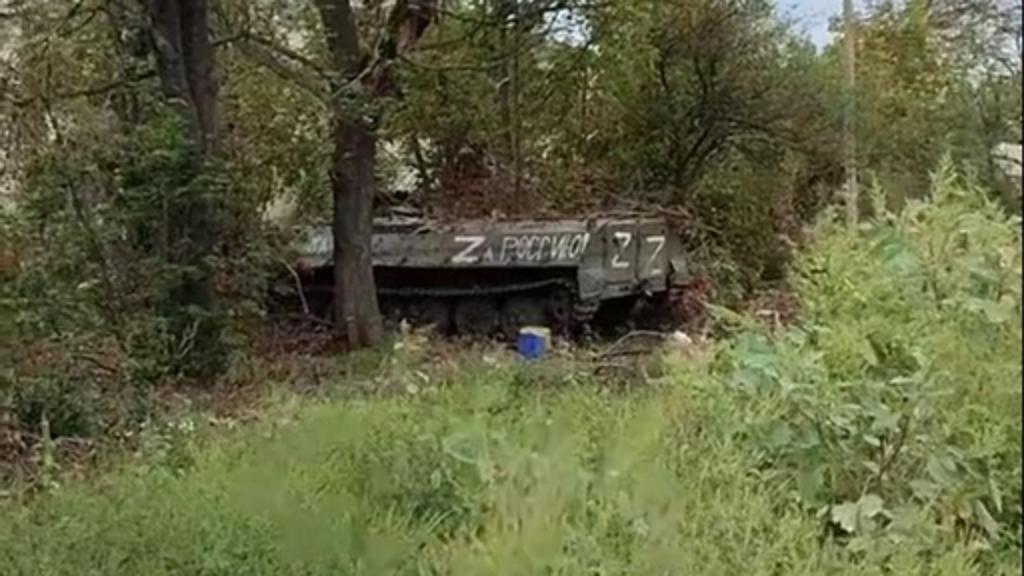APC-IFV: (238, 188, 708, 344)
